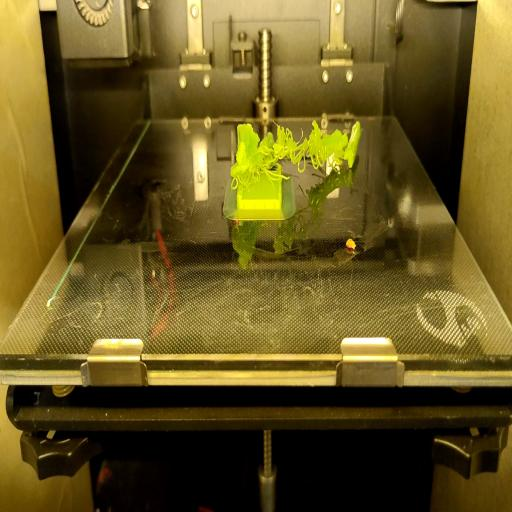spaghetti: (230, 116, 346, 185)
